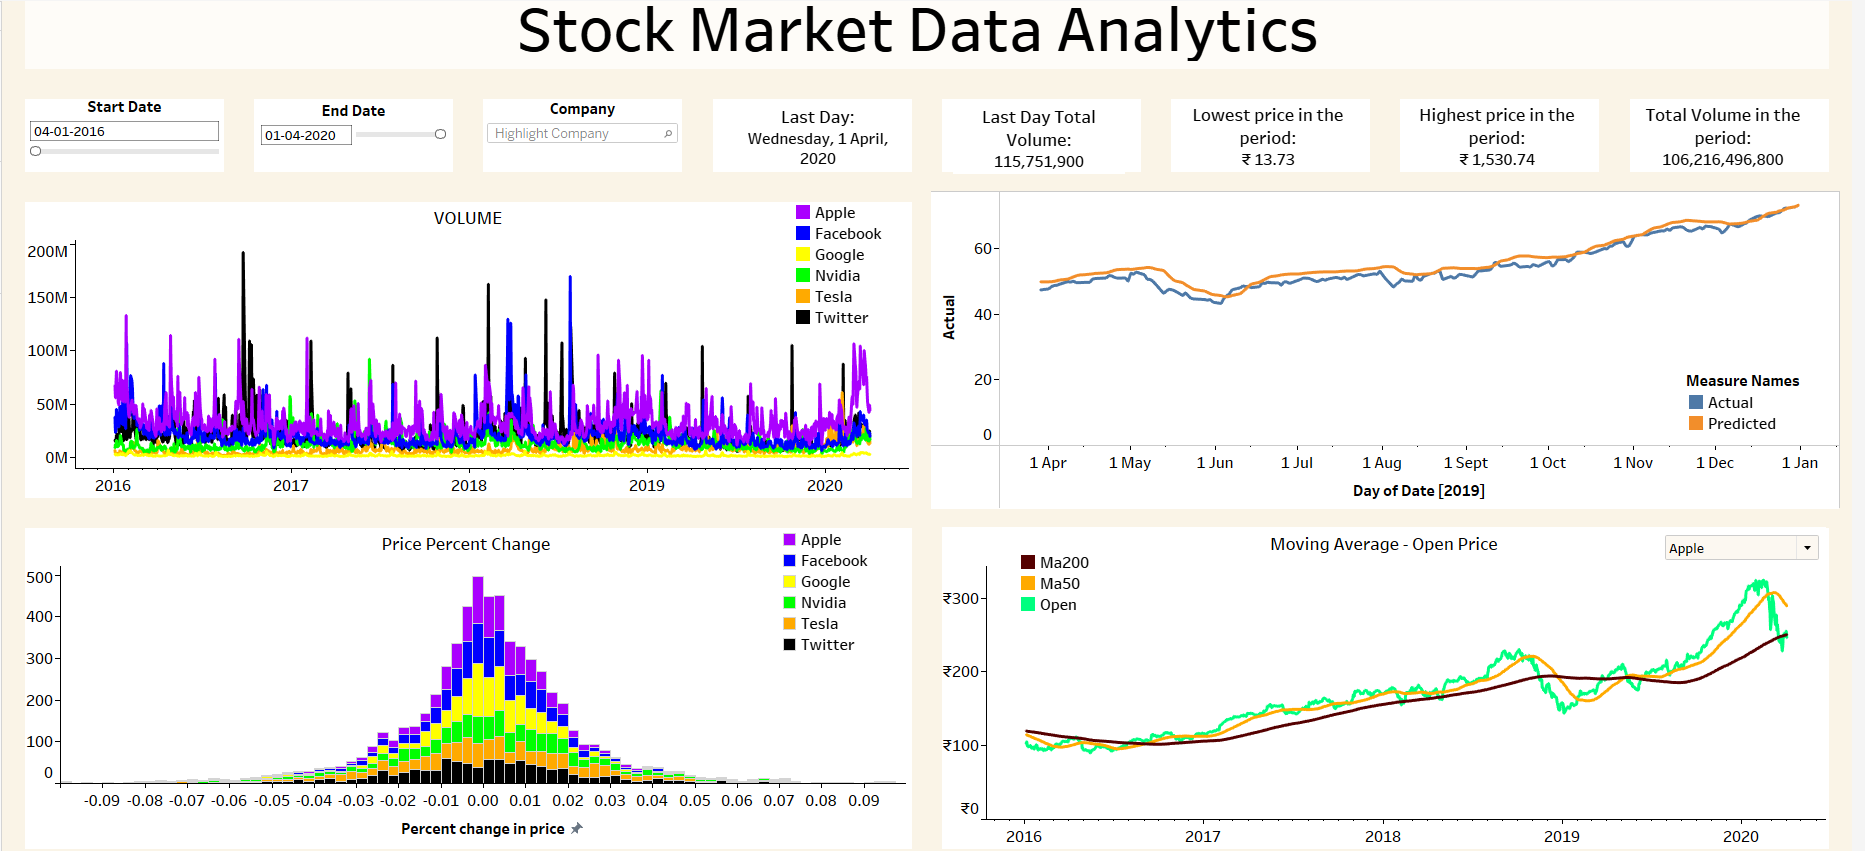

The page's visual inventory and layout, read from the dashboard file:
{"tool":"tableau","page":{"name":"Dashboard 1","canvas":[1850,900],"ordinal":0},"visuals":[{"type":"blank","box":[8,8,1834,104.3]},{"type":"worksheet","title":"Title","mark":"Automatic","box":[475,20,1015,92]},{"type":"blank","box":[8,112.3,229.2,102.6]},{"type":"blank","box":[237.2,112.3,229.3,102.6]},{"type":"blank","box":[466.5,112.3,229.3,102.6]},{"type":"blank","box":[695.7,112.3,229.3,102.6]},{"type":"blank","box":[925,112.3,229.2,102.7]},{"type":"blank","box":[1154.2,112.3,229.3,102.7]},{"type":"blank","box":[1383.5,112.3,229.3,102.7]},{"type":"blank","box":[1612.7,112.3,229.3,102.7]},{"type":"parameter","param":"[Parameters].[Parameter 1]","box":[25,124.3,195,74.6]},{"type":"highlighter","title":"Volume","param":"[federated.0gef64r09y30ms10fojtu176k3ir].[none:Table Name:nk]","box":[482,126,197,72]},{"type":"parameter","param":"[Parameters].[Parameter 2]","box":[256,127.7,191,69.4]},{"type":"worksheet","title":"Last Day","mark":"Automatic","box":[732,130.3,193,73.7]},{"type":"worksheet","title":"Lowest price in the period ","mark":"Automatic","box":[1182,130.3,191,70.3]},{"type":"worksheet","title":"Highest price in the period","mark":"Automatic","box":[1411,130.3,190,70.3]},{"type":"worksheet","title":"Last Day Total Volume","mark":"Automatic","box":[951,132,192,71.1]},{"type":"blank","box":[8,214.9,917,325.7]},{"type":"worksheet","title":"Apple Future Prediction 2020","mark":"Automatic","rows":["Actual","Predicted"],"cols":["Date"],"box":[925,215,917,326]},{"type":"worksheet","title":"Volume","mark":"Automatic","rows":["Volume"],"cols":["Date"],"box":[25,228.9,882,297.4]},{"type":"legend","title":"Volume","param":"[federated.0gef64r09y30ms10fojtu176k3ir].[none:Table Name:nk]","box":[791,230,116,130]},{"type":"legend","title":"Apple Future Prediction 2020","param":"[federated.0vhvkdh0m5xqfs1eurx2y0xgbf3r].[:Measure Names]","box":[1684,398,140,64]},{"type":"blank","box":[8,540.6,917,351.4]},{"type":"blank","box":[925,541,917,351]},{"type":"worksheet","title":"Price Percent Change","mark":"Automatic","rows":["Percent change in price"],"cols":["Percent change in price (bin)"],"box":[24,555.4,880,318.9]},{"type":"worksheet","title":"Moving Average - Open Price","mark":"Automatic","cols":["Date"],"box":[940,555.4,884,322.3]},{"type":"legend","title":"Price Percent Change","param":"[federated.0gef64r09y30ms10fojtu176k3ir].[none:Table Name:nk]","box":[777,557,123,139]},{"type":"filter","title":"Moving Average - Open Price","param":"[federated.0gef64r09y30ms10fojtu176k3ir].[none:Table Name:nk]","box":[1660,559.7,160,30.9]},{"type":"legend","title":"Moving Average - Open Price","param":"[federated.0gef64r09y30ms10fojtu176k3ir].[:Measure Names]","box":[1016,580,137,81]}]}

Visuals, with their boxes on the page's 1850x900 design canvas (x1, y1, x2, y2). These are canvas units, not pixel positions in the 1865x851 screenshot, which may show the page scaled, cropped or inside an application window:
blank: <box>8,8,1842,112</box>
"Title" worksheet: <box>475,20,1490,112</box>
blank: <box>8,112,237,215</box>
blank: <box>237,112,466,215</box>
blank: <box>466,112,696,215</box>
blank: <box>696,112,925,215</box>
blank: <box>925,112,1154,215</box>
blank: <box>1154,112,1384,215</box>
blank: <box>1384,112,1613,215</box>
blank: <box>1613,112,1842,215</box>
parameter: <box>25,124,220,199</box>
"Volume" highlighter: <box>482,126,679,198</box>
parameter: <box>256,128,447,197</box>
"Last Day" worksheet: <box>732,130,925,204</box>
"Lowest price in the period " worksheet: <box>1182,130,1373,201</box>
"Highest price in the period" worksheet: <box>1411,130,1601,201</box>
"Last Day Total Volume" worksheet: <box>951,132,1143,203</box>
blank: <box>8,215,925,541</box>
"Apple Future Prediction 2020" worksheet: <box>925,215,1842,541</box>
"Volume" worksheet: <box>25,229,907,526</box>
"Volume" legend: <box>791,230,907,360</box>
"Apple Future Prediction 2020" legend: <box>1684,398,1824,462</box>
blank: <box>8,541,925,892</box>
blank: <box>925,541,1842,892</box>
"Price Percent Change" worksheet: <box>24,555,904,874</box>
"Moving Average - Open Price" worksheet: <box>940,555,1824,878</box>
"Price Percent Change" legend: <box>777,557,900,696</box>
"Moving Average - Open Price" filter: <box>1660,560,1820,591</box>
"Moving Average - Open Price" legend: <box>1016,580,1153,661</box>
